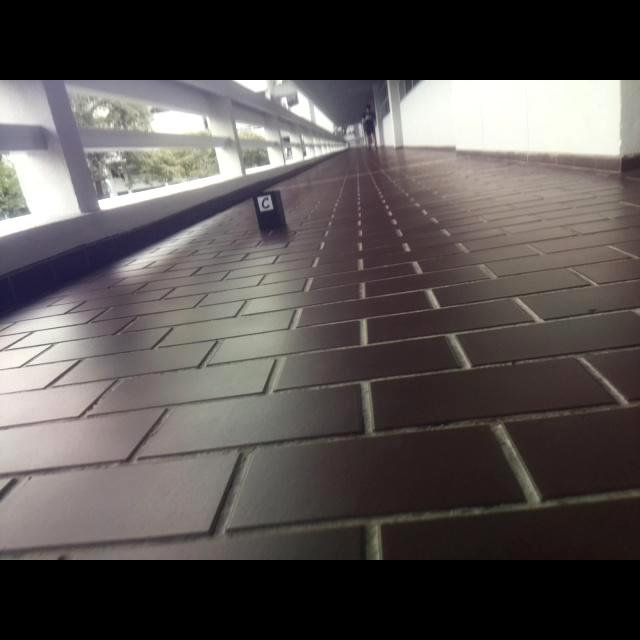C: (261, 196, 270, 210)
